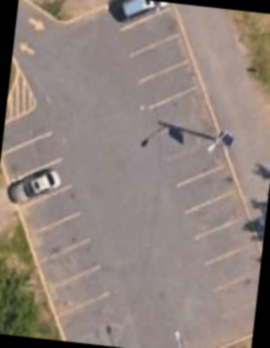parkingspot: (102, 0, 263, 348), (0, 100, 115, 322)
